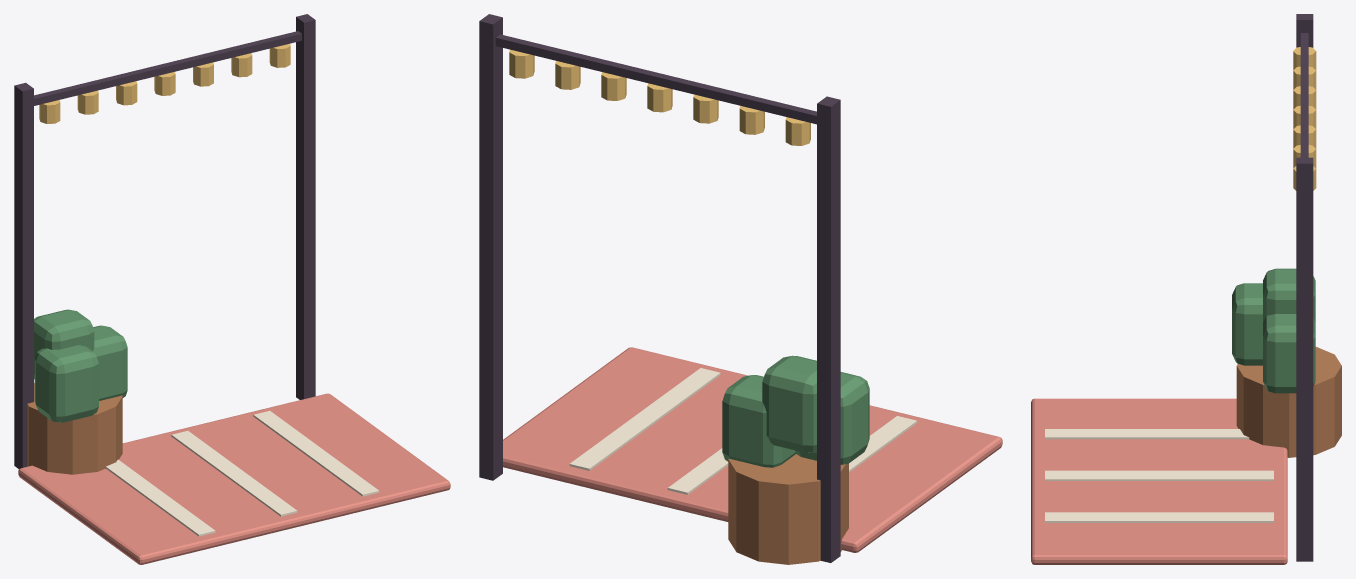
File: prop_dekorasi_lv3.fbx
3 views of the same model, side by side, from view 1: azimuth 30°, elevation 25°; view 2: azimuth 150°, elevation 25°; view 3: azimuth 270°, elevation 25° (orthographic). The views are drawn at different scales.
Visible parts, largest first — view 1: prop_dekorasi_lv3; view 2: prop_dekorasi_lv3; view 3: prop_dekorasi_lv3.
Part boxes in pixels (<box>): prop_dekorasi_lv3: <box>14,14,450,564</box>; prop_dekorasi_lv3: <box>479,14,1002,564</box>; prop_dekorasi_lv3: <box>1031,14,1341,564</box>.
Size of the model in its own units: 122 by 142 by 100.
Materials: 1 (1 with a texture image).
